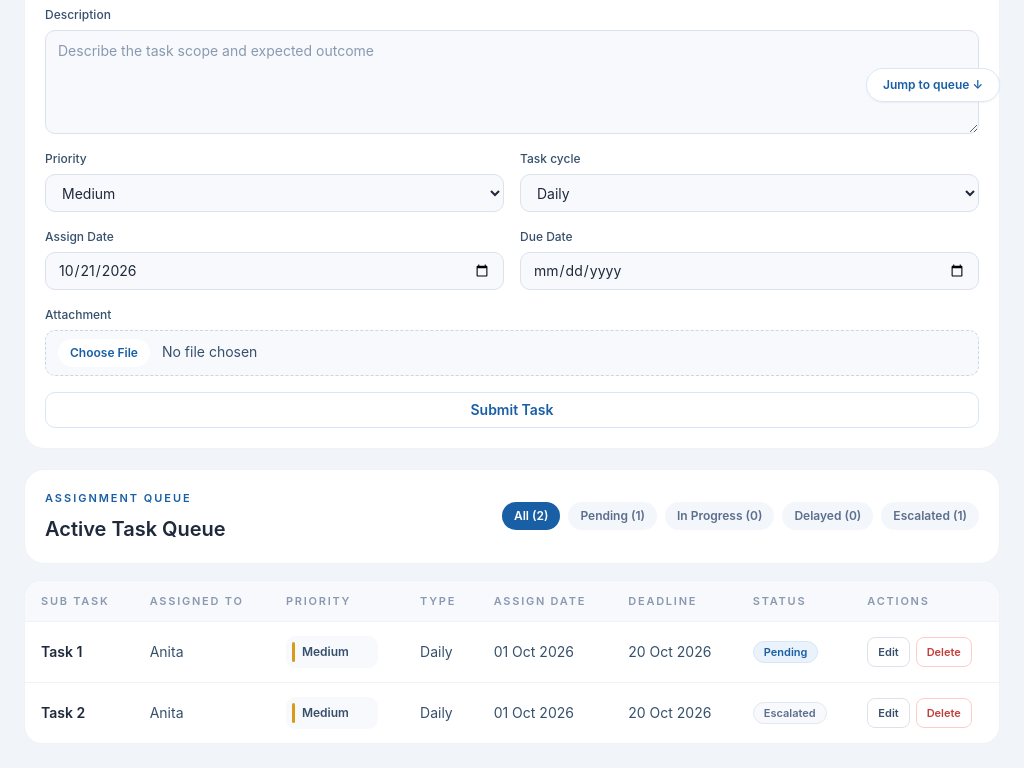
Assignment Queue › shows per-status counts, an Escalated tab, and a tab-specific empty message
(page scrolled)
expect the text "Task 1" is shown: met, box [41,643,82,660]
expect the button "All (2)" is shown: met, box [502,502,560,530]
Click the button "Delayed (0)". click: {"x": 828, "y": 516}
box: [782,502,873,530]
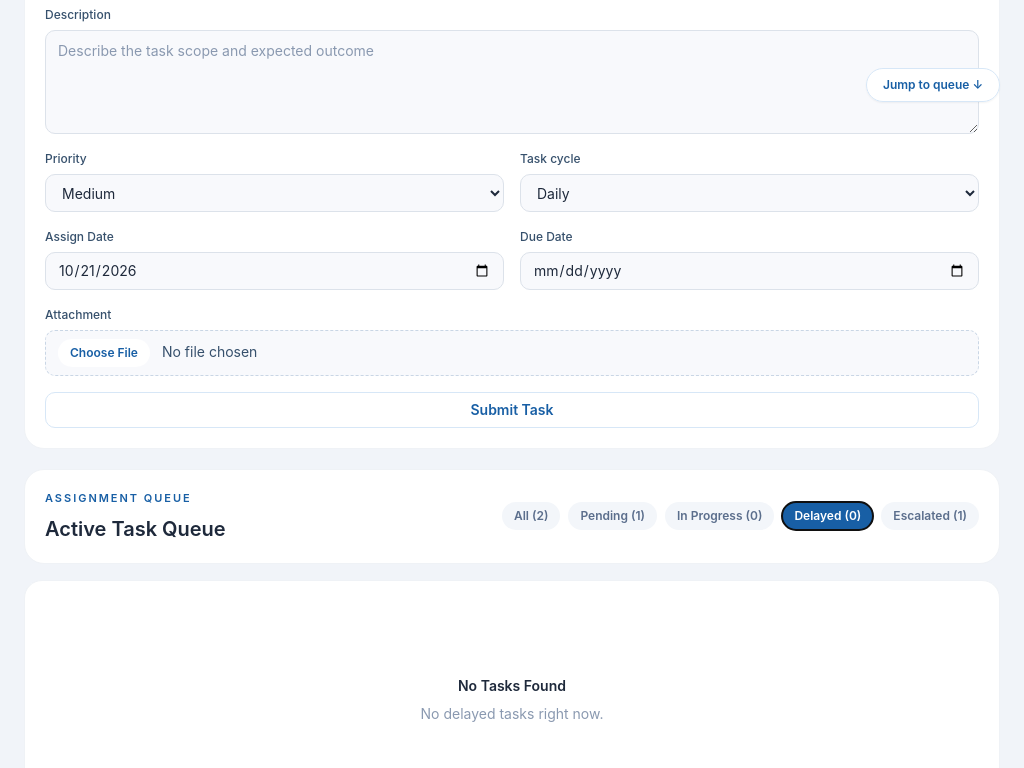
expect the text "No delayed tasks right now." is shown: met, box [420,704,603,724]
